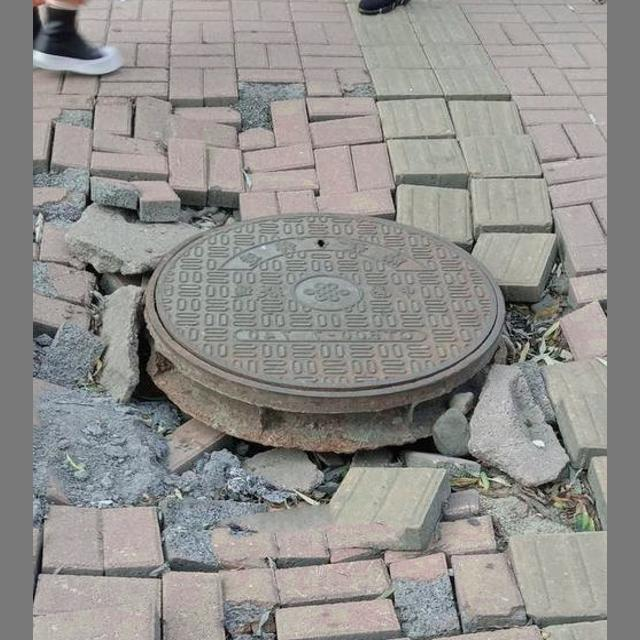circle: (40, 110, 595, 640)
